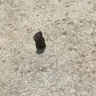Dog: (31, 32, 47, 49)
